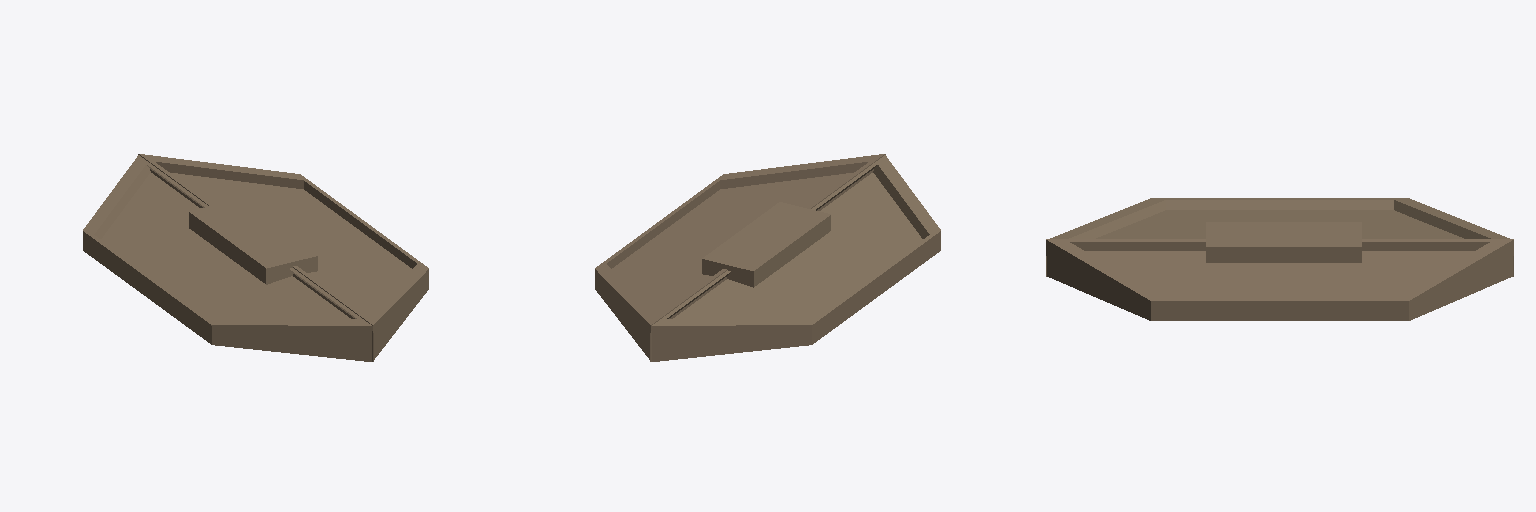
3 views of the same model, side by side, from view 1: azimuth 30°, elevation 25°; view 2: azimuth 150°, elevation 25°; view 3: azimuth 270°, elevation 25° (orthographic).
Visible parts, largest first — view 1: 立方体.001_立方体.004, 立方体.002_立方体.007, 立方体_立方体.008; view 2: 立方体.001_立方体.004, 立方体.002_立方体.007, 立方体_立方体.008; view 3: 立方体.002_立方体.007, 立方体.001_立方体.004, 立方体_立方体.008.
Boxes of the visible parts, x1=… form: 立方体.001_立方体.004: x1=83, y1=155, x2=373, y2=361; 立方体.002_立方体.007: x1=138, y1=154, x2=428, y2=361; 立方体_立方体.008: x1=189, y1=199, x2=317, y2=284; 立方体.001_立方体.004: x1=650, y1=155, x2=940, y2=361; 立方体.002_立方体.007: x1=595, y1=154, x2=885, y2=361; 立方体_立方体.008: x1=702, y1=202, x2=830, y2=287; 立方体.002_立方体.007: x1=1046, y1=239, x2=1513, y2=320; 立方体.001_立方体.004: x1=1046, y1=198, x2=1513, y2=276; 立方体_立方体.008: x1=1206, y1=222, x2=1361, y2=262.
Bounding box in the file's own units: 1.07 × 0.1978 × 2.